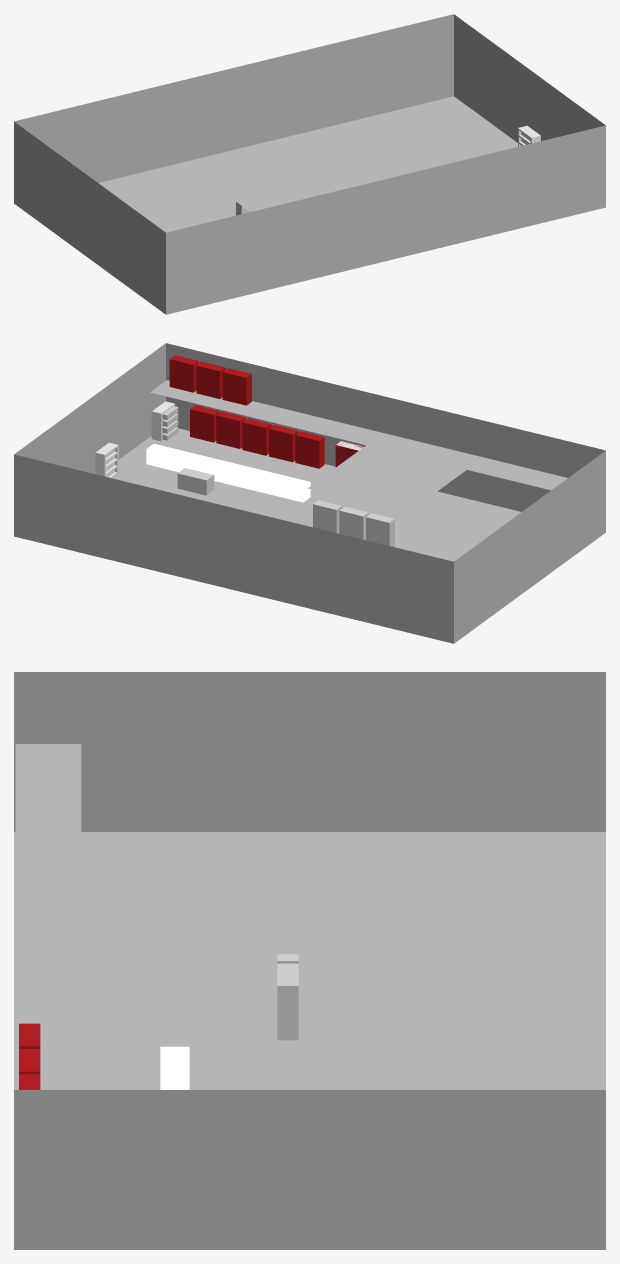
File: library 0.1.glb
3 views of the same model, one above another, from view 1: azimuth 30°, elevation 25°; view 2: azimuth 150°, elevation 25°; view 3: azimuth 270°, elevation 25° (orthographic). The views are drawn at different scales.
Parts seen in each view (by area): view 1: Plane, Plane.001; view 2: Plane, Plane.001, Cube.012, Cube.010, Cube.007, Cube.001, Cube.003, Cube.011, Cube.004, Cube, Cube.016, Cube.014 (+1 smaller); view 3: Plane, Plane.001, Cube, Cube.010, Cube.012.
Boxes of the visible parts, x1,y1,x2,y2 form: Plane: [14, 14, 605, 314]; Plane.001: [212, 159, 350, 211]; Plane: [14, 343, 605, 643]; Plane.001: [150, 380, 567, 512]; Cube.012: [146, 443, 310, 502]; Cube.010: [169, 355, 251, 405]; Cube.007: [242, 418, 324, 468]; Cube.001: [190, 405, 245, 448]; Cube.003: [366, 513, 394, 547]; Cube.011: [177, 468, 214, 495]; Cube.004: [339, 507, 368, 540]; Cube: [313, 500, 341, 533]; Cube.016: [95, 442, 118, 477]; Cube.014: [151, 401, 174, 441]; Plane: [14, 672, 605, 1249]; Plane.001: [15, 744, 309, 1089]; Cube: [277, 963, 298, 1040]; Cube.010: [19, 1023, 40, 1089]; Cube.012: [160, 1046, 189, 1089].
Size of the model in its own units: 30.24 by 5.39 by 18.1.
